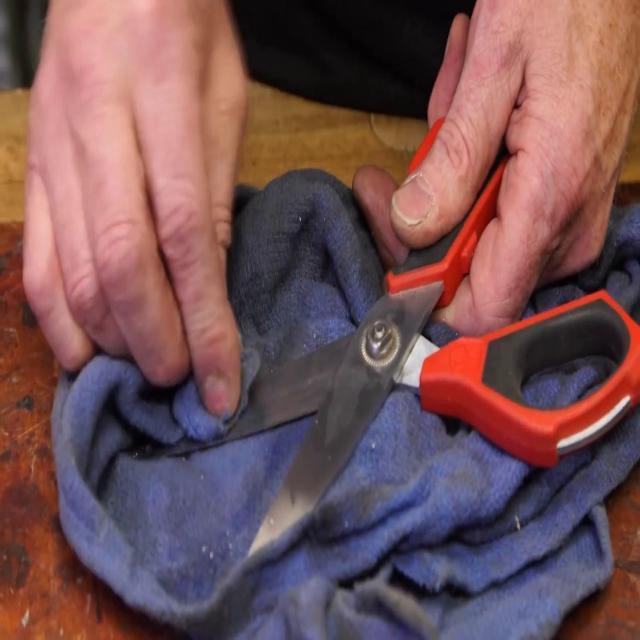scissor: (163, 117, 640, 559)
